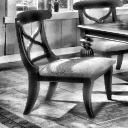chair_success: (10, 10, 118, 120)
